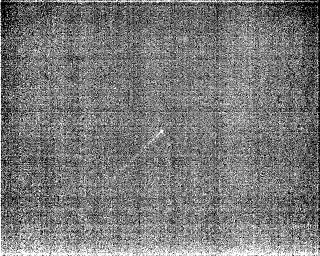AIRPLANE: (97, 130, 166, 177)
